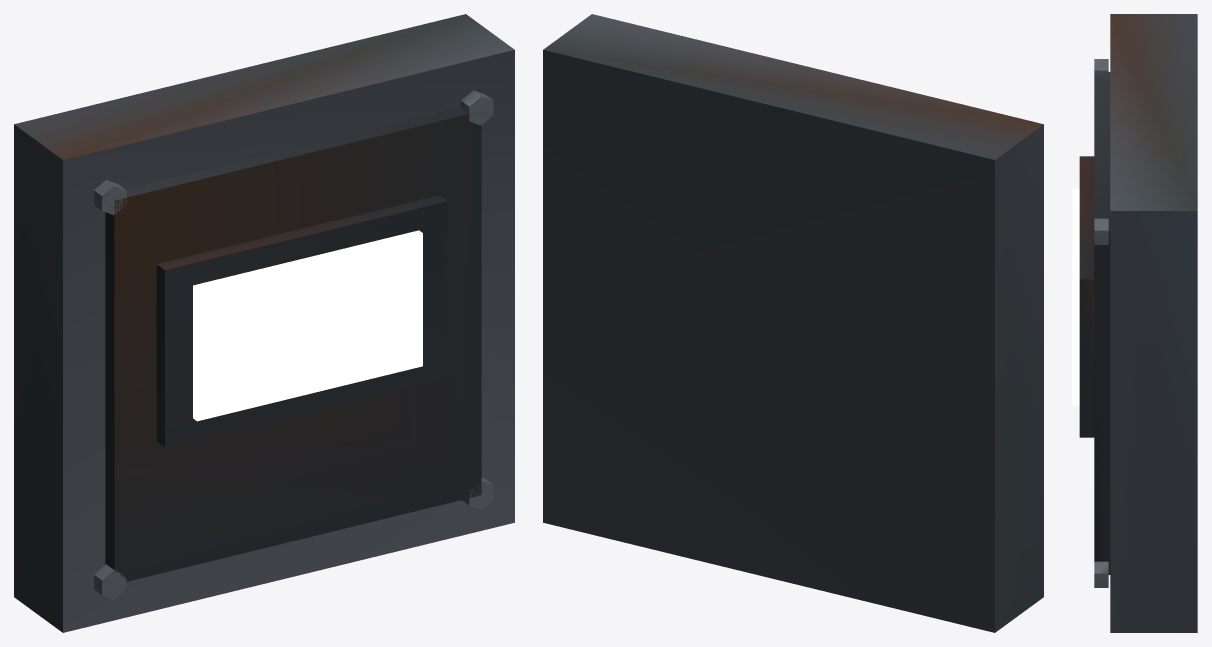
The model's file is tile_wall_screen.glb.
3 views of the same model, side by side, from view 1: azimuth 30°, elevation 25°; view 2: azimuth 150°, elevation 25°; view 3: azimuth 270°, elevation 25° (orthographic). The views are drawn at different scales.
Parts seen in each view (by area): view 1: tile_wall_screen; view 2: tile_wall_screen; view 3: tile_wall_screen.
Boxes of the visible parts, left/top/right/bottom form: tile_wall_screen: left=14, top=14, right=514, bottom=632; tile_wall_screen: left=543, top=14, right=1043, bottom=632; tile_wall_screen: left=1072, top=14, right=1197, bottom=632.
Bounding box in the file's own units: 32 × 32 × 8.6.
